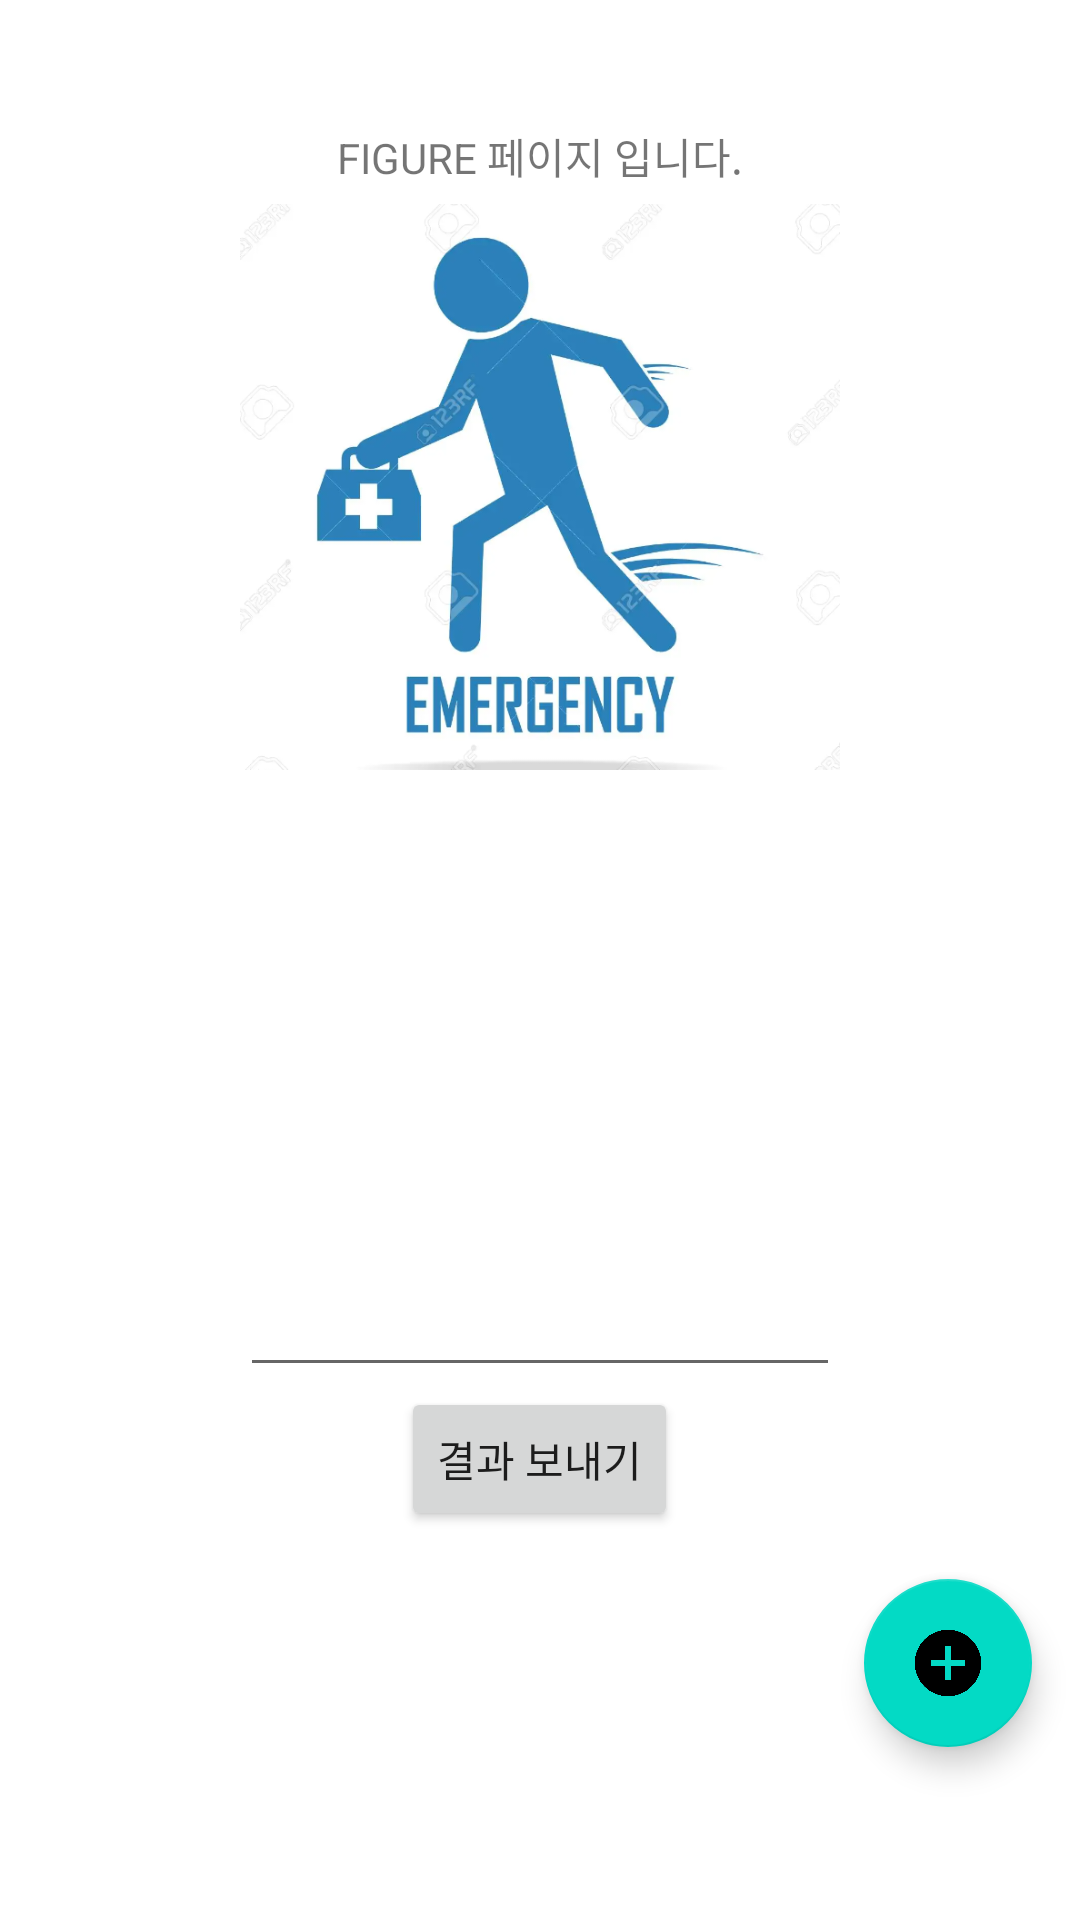

Named icons in this screenshot (1080 x 1920) and their bounding boxes, [left=x1, top=y1, right=x2, bottom=y2]:
add: [left=864, top=1579, right=1032, bottom=1747]
